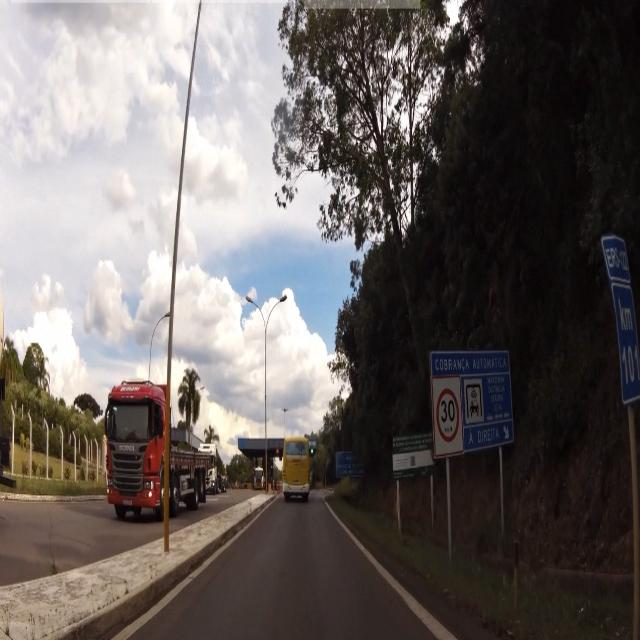R-19: (432, 382, 460, 450)
S-14: (600, 230, 640, 416)
